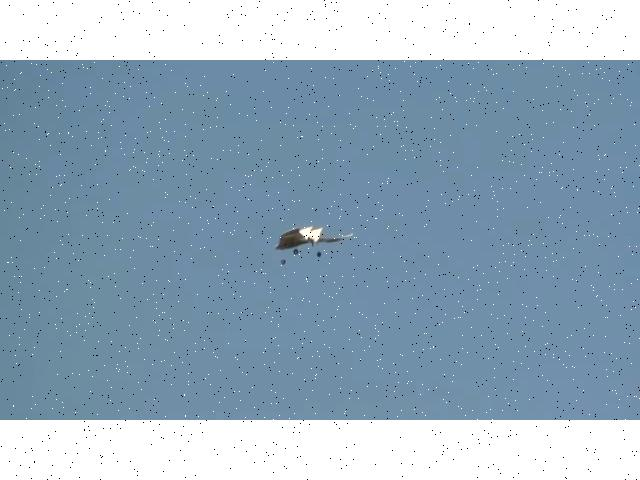Anti-Drone: (276, 226, 352, 248)
